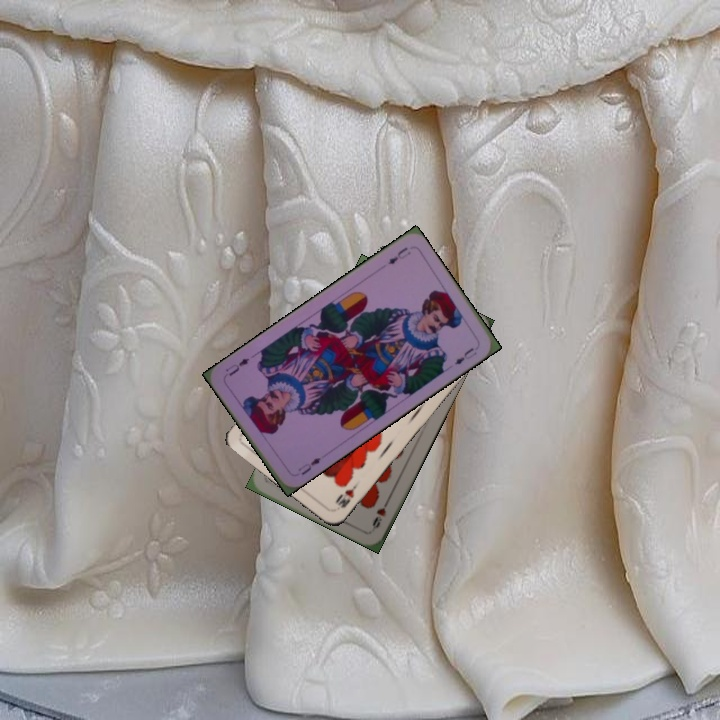EU: (294, 452, 324, 478), (383, 243, 414, 267)
H10: (331, 480, 360, 511)
H9: (368, 495, 392, 533)
